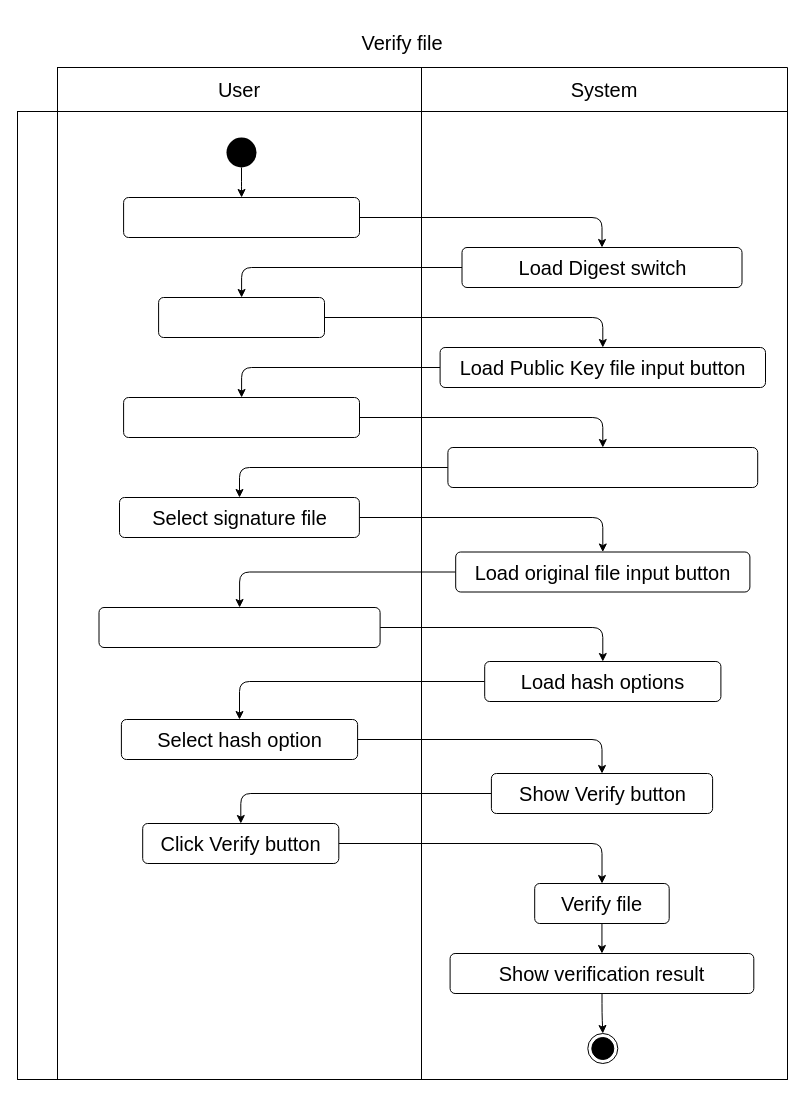
This 805x1097 diagram has some shape labels left out. Here are the shapes that lost their labels. From the top down, the box of each, then its label:
(123, 196, 360, 238): Select Verify
(158, 296, 324, 338): Toggle off
(123, 396, 360, 438): Select public key file
(447, 446, 758, 488): Load signature file input button
(98, 606, 380, 648): Select original file to verify
